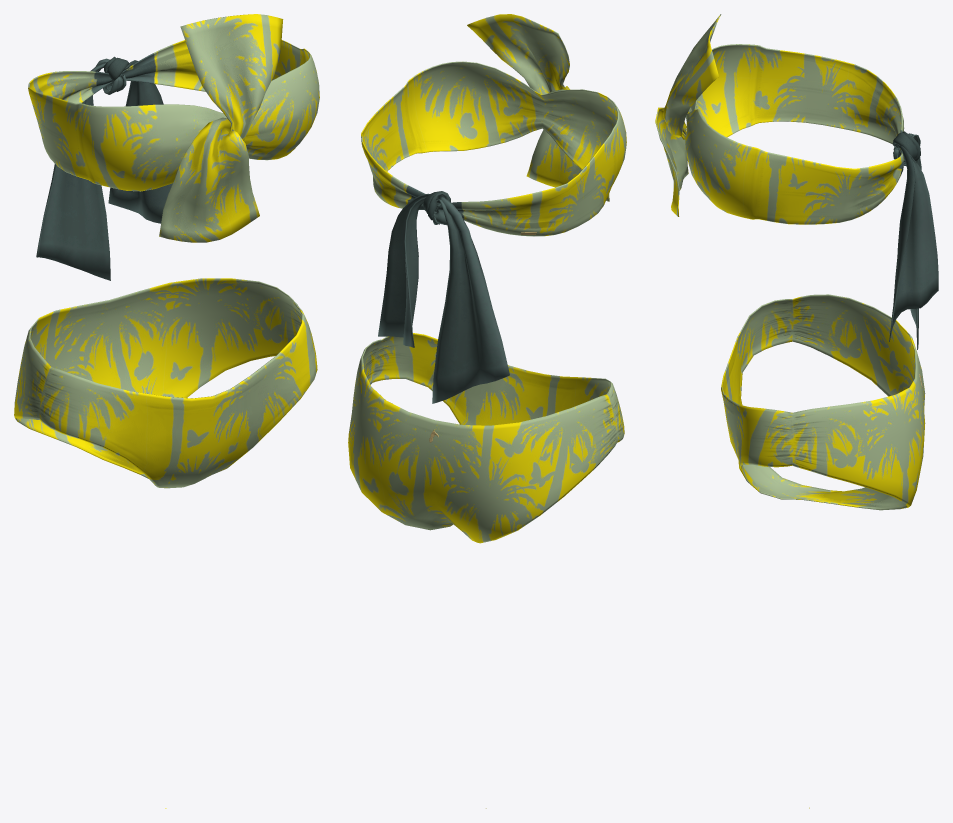
The model's file is Swimsuit_JDD.gltf.
3 views of the same model, side by side, from view 1: azimuth 30°, elevation 25°; view 2: azimuth 150°, elevation 25°; view 3: azimuth 270°, elevation 25° (orthographic). The views are drawn at different scales.
Parts seen in each view (by area): view 1: Swimsuit; view 2: Swimsuit; view 3: Swimsuit.
Boxes of the visible parts, <box> form: Swimsuit: <box>14,14,319,808</box>; Swimsuit: <box>348,14,626,808</box>; Swimsuit: <box>655,14,938,808</box>.
Size of the model in its own units: 0.466 by 1.36 by 0.4449.
Materials: 1 (1 with a texture image).
